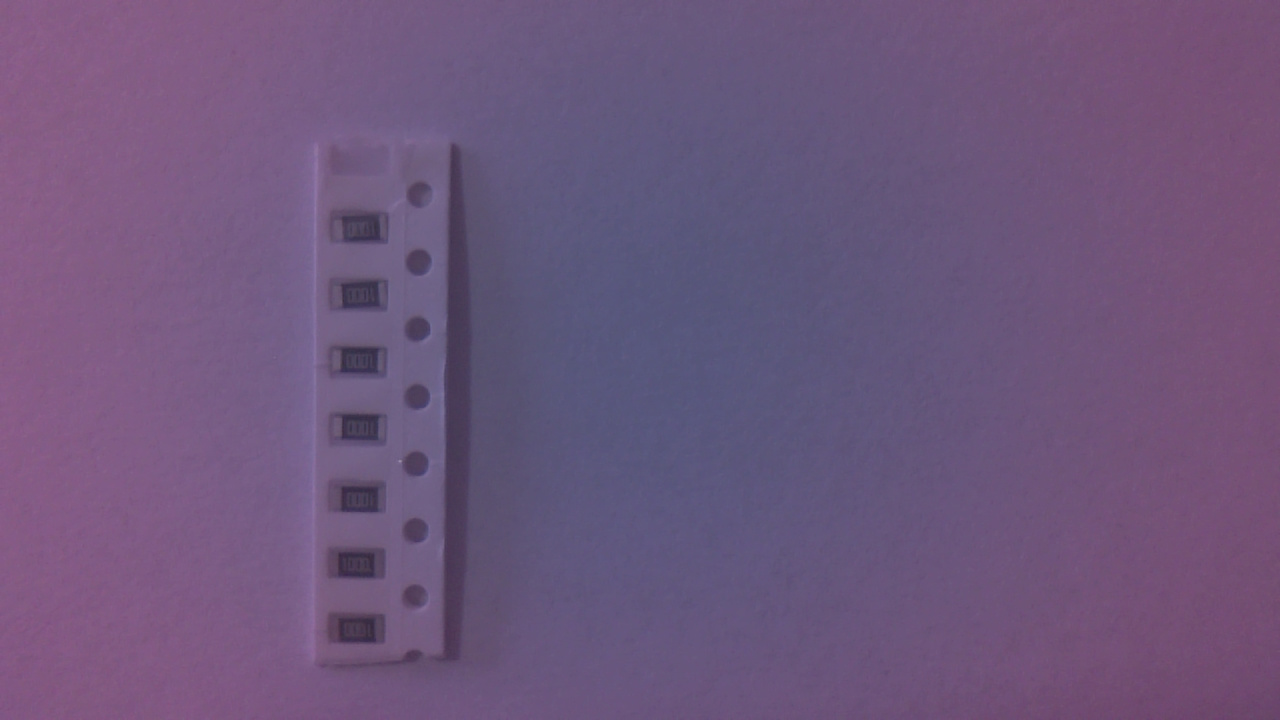Resistor: (331, 549, 392, 586), (334, 283, 399, 317), (333, 348, 394, 383), (335, 486, 395, 521), (336, 216, 398, 249), (336, 615, 395, 649), (334, 416, 392, 450)
